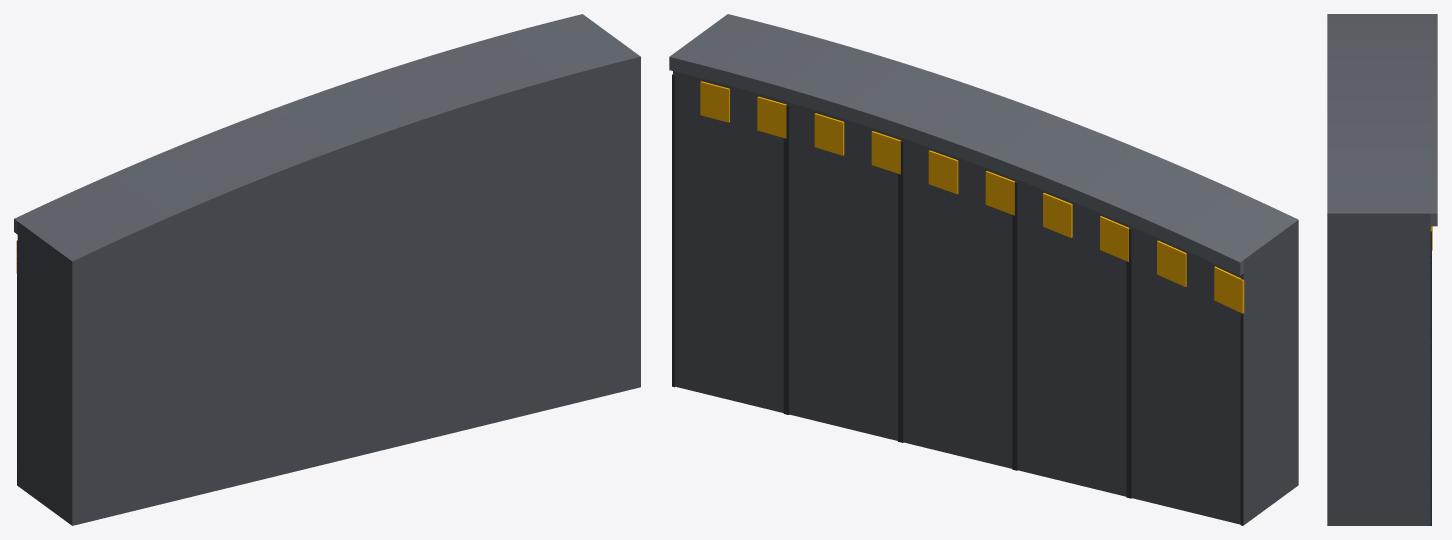
3 views of the same model, side by side, from view 1: azimuth 30°, elevation 25°; view 2: azimuth 150°, elevation 25°; view 3: azimuth 270°, elevation 25° (orthographic). The views are drawn at different scales.
Visible parts, largest first — view 1: e1w; view 2: e1w; view 3: e1w.
Part boxes in pixels (x1,y1,x2,y2): e1w: (14, 14, 640, 525); e1w: (669, 14, 1298, 525); e1w: (1327, 14, 1437, 525).
Bounding box in the file's own units: 9 × 5 × 1.6.
